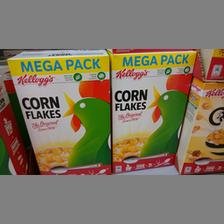Cerealien: (6, 50, 110, 174), (110, 50, 194, 170)
